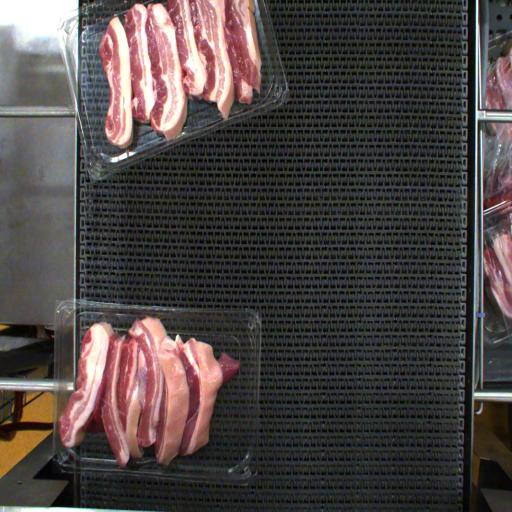twisted-meat: (153, 337, 189, 469)
